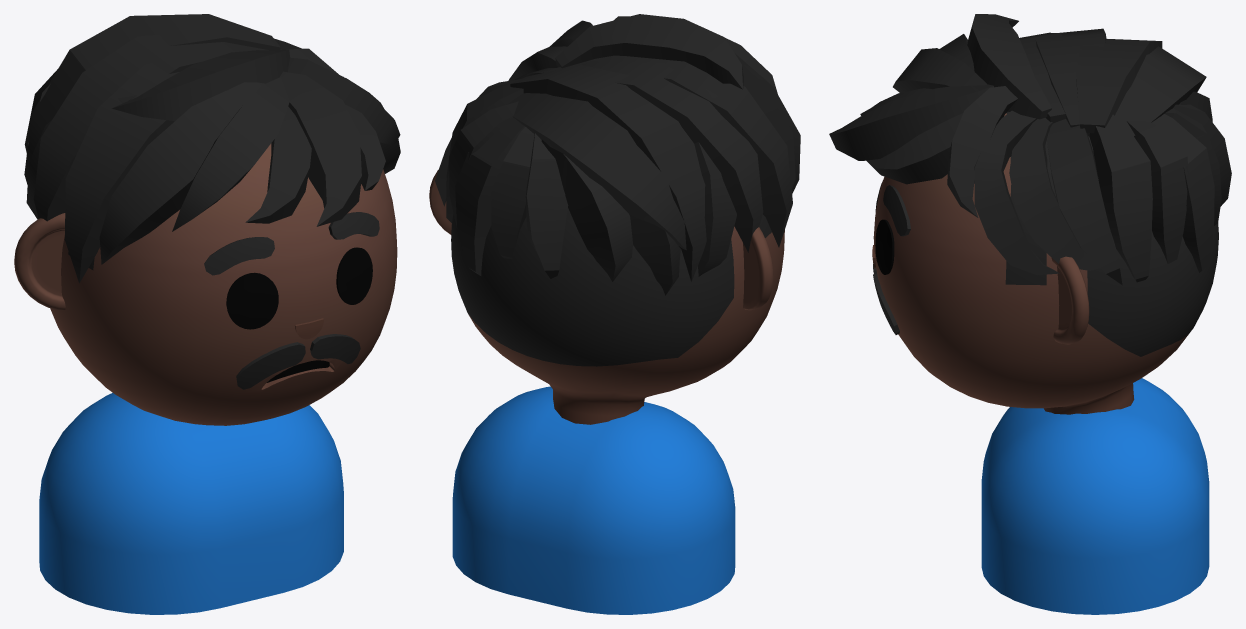
The model's file is man_frowning.glb.
The picture shows the model from 3 angles, left to right: view 1: azimuth 30°, elevation 25°; view 2: azimuth 150°, elevation 25°; view 3: azimuth 270°, elevation 25°; orthographic projection. The views are drawn at different scales.
Parts seen in each view (by area): view 1: Roundcube.035, Cube.493, Circle.396, ears.022, Circle.399, Circle.398; view 2: Roundcube.035, Cube.493, ears.022; view 3: Roundcube.035, Cube.493, ears.022, Circle.396, Circle.398.
Part boxes in pixels (x1,y1,x2,y2): Roundcube.035: (39,143,397,614); Cube.493: (24,14,400,283); Circle.396: (226,247,372,329); ears.022: (14,213,65,310); Circle.399: (236,334,360,389); Circle.398: (204,212,379,275); Roundcube.035: (451,208,784,614); Cube.493: (435,14,800,295); ears.022: (429,170,773,310); Roundcube.035: (873,112,1218,614); Cube.493: (829,14,1231,285); ears.022: (1051,256,1089,344); Circle.396: (875,181,894,274); Circle.398: (883,185,910,236).
Bounding box in the file's own units: 1.76 × 2.48 × 1.77.
2 materials, 2 textured.
